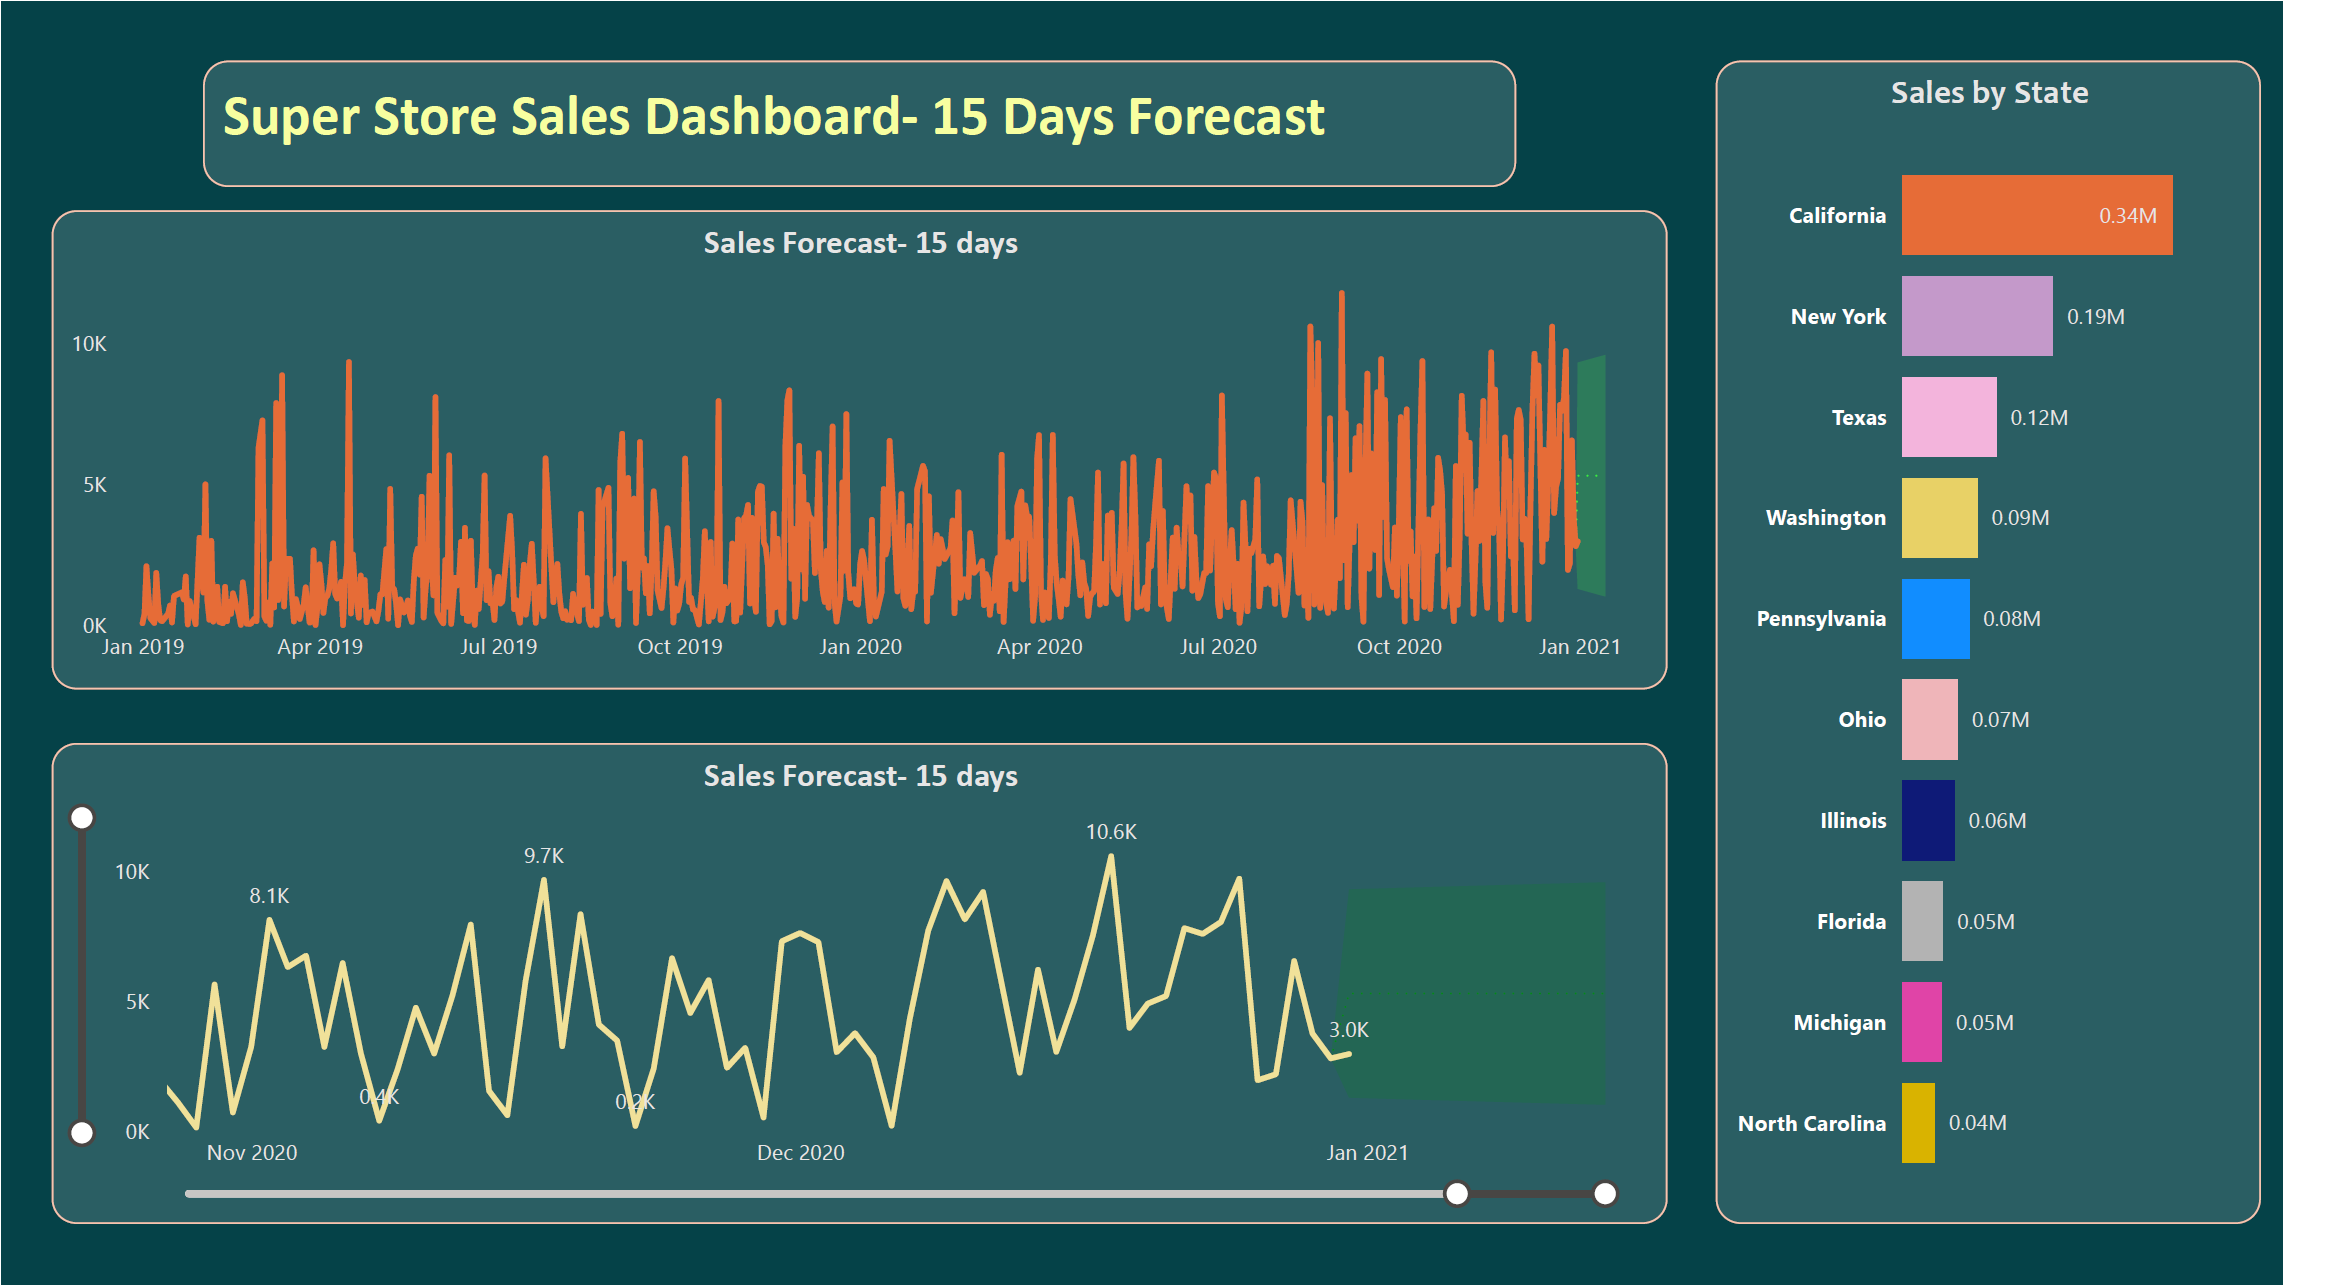

The dashboard page shown, as its layout file describes it:
{"tool":"powerbi","page":{"name":"Sales Forecast","canvas":[1280,720],"ordinal":1},"visuals":[{"type":"lineChart","title":"Sales Forecast- 15 days","fields":{"Y":["Sum(SuperStore_Sales.Sales)"],"Category":["SuperStore_Sales.Order Date"]},"box":[28.2,116.7,906.5,269.4],"z":0},{"type":"lineChart","title":"Sales Forecast- 15 days","fields":{"Y":["Sum(SuperStore_Sales.Sales)"],"Category":["SuperStore_Sales.Order Date"]},"box":[28.2,416.3,906.5,269.4],"z":1000},{"type":"clusteredBarChart","title":"Sales by State","fields":{"Category":["SuperStore_Sales.State"],"Y":["Sum(SuperStore_Sales.Sales)"]},"box":[961.9,33.1,306.4,652.6],"z":1001},{"type":"textbox","box":[112.8,33.1,737.3,71],"z":1002}]}

Visuals, with their boxes in screenshot pixels (x1, y1, x2, y2), scaled from the page's 1280x720 canvas onto the 2326x1285 screenshot:
"Sales Forecast- 15 days" lineChart: (left=51, top=208, right=1699, bottom=689)
"Sales Forecast- 15 days" lineChart: (left=51, top=743, right=1699, bottom=1224)
"Sales by State" clusteredBarChart: (left=1748, top=59, right=2305, bottom=1224)
textbox: (left=205, top=59, right=1545, bottom=186)
